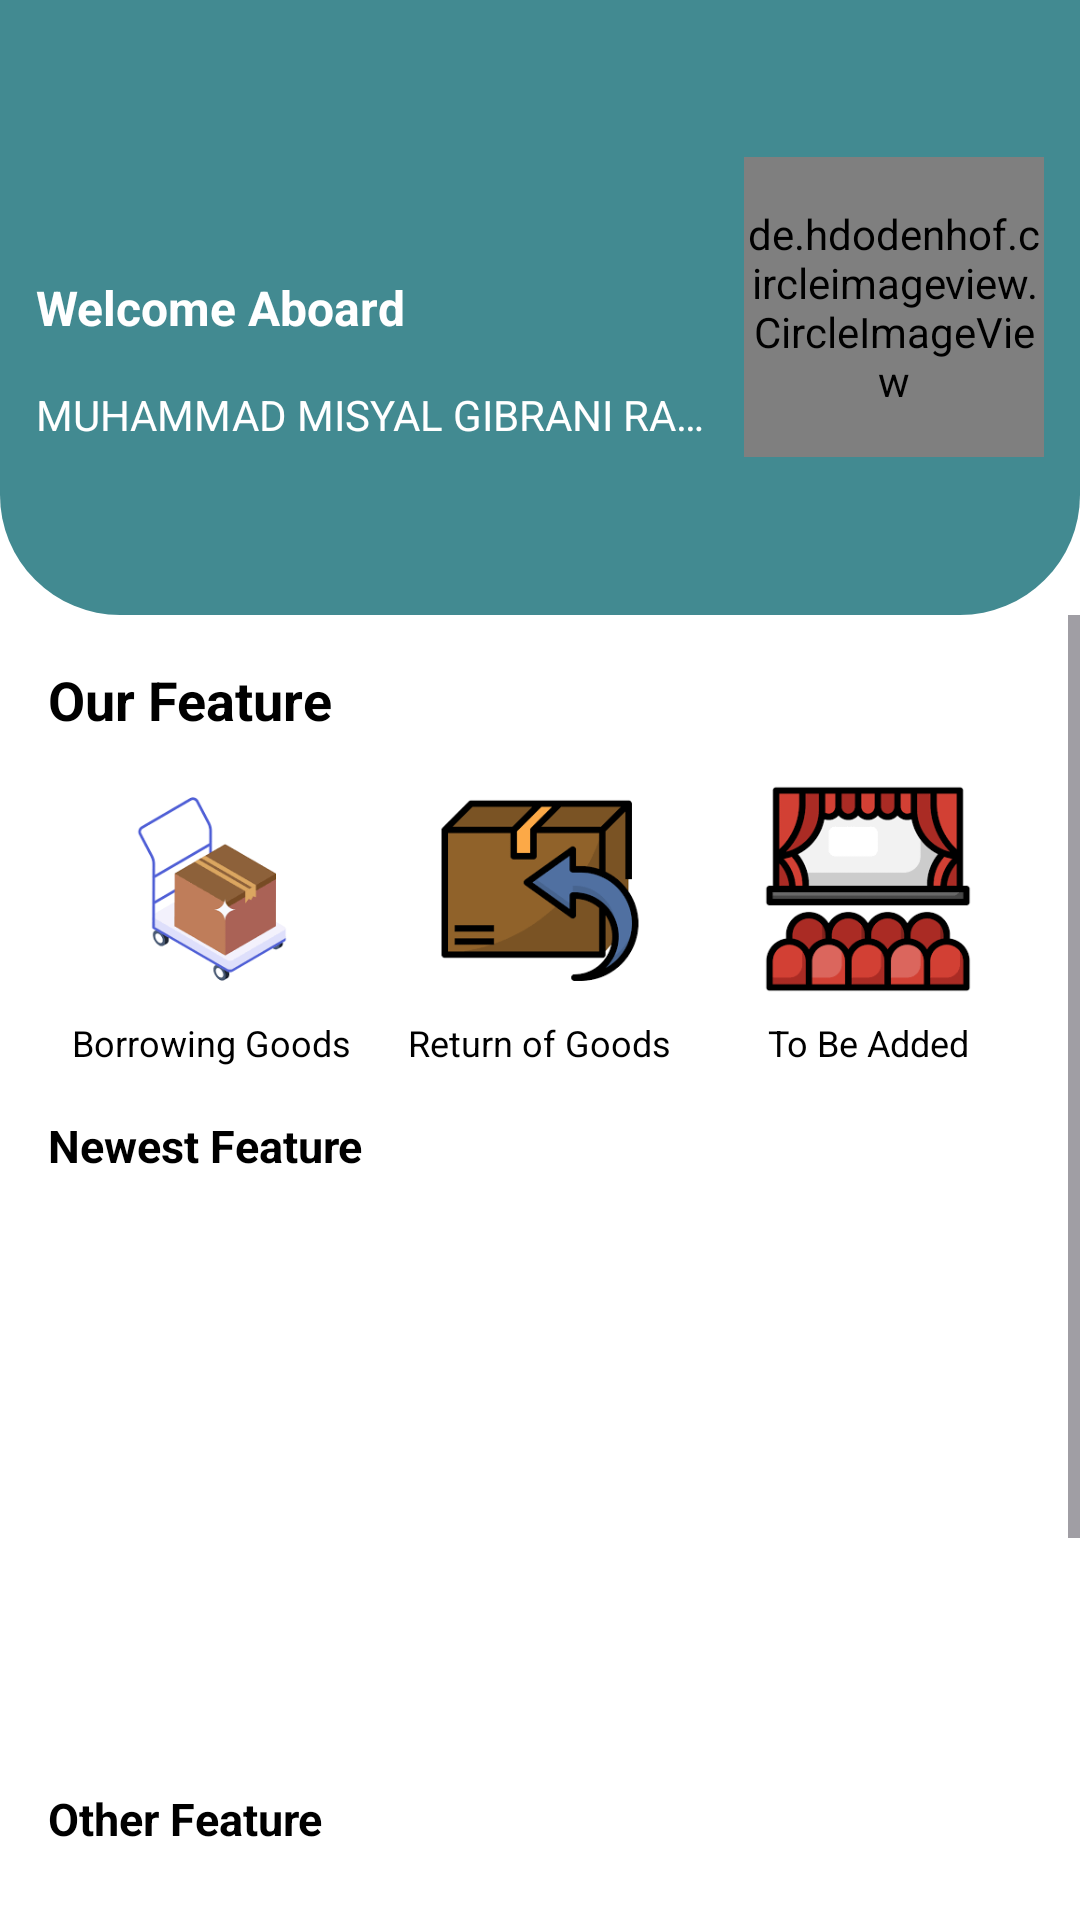

Named icons in this screenshot (1080 x 1920) and their centers, (x,y):
teater: (868,889)
trolley: (212,889)
